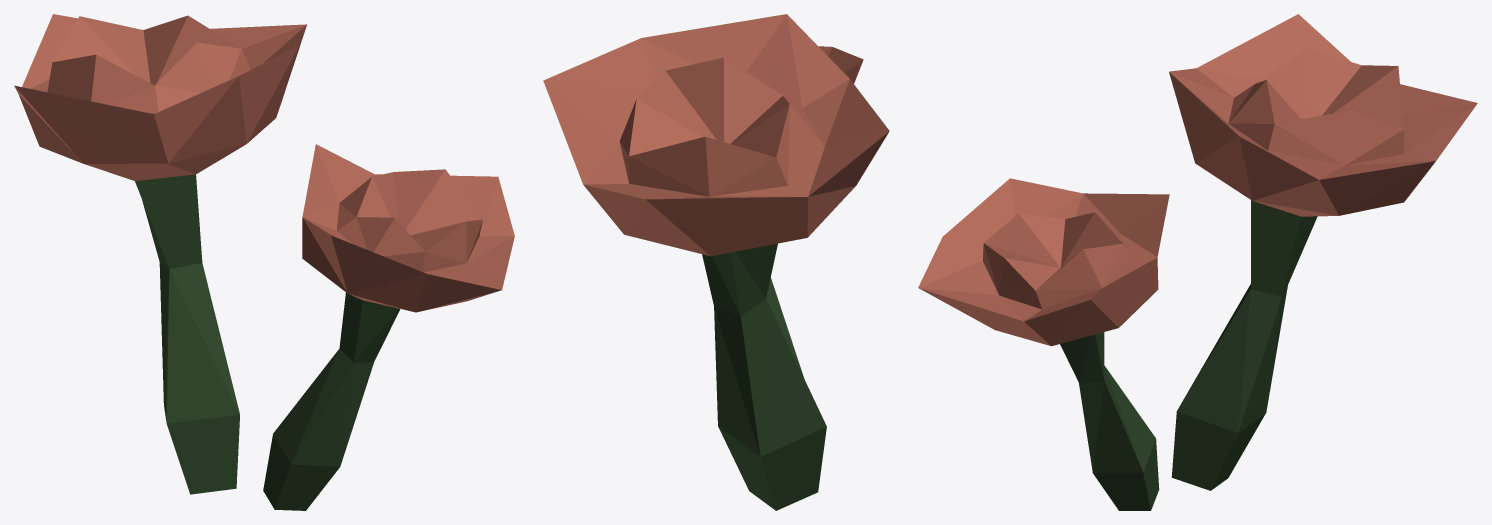
File: SM_Env_Flower_02.fbx
The picture shows the model from 3 angles, left to right: view 1: azimuth 30°, elevation 25°; view 2: azimuth 150°, elevation 25°; view 3: azimuth 270°, elevation 25°; orthographic projection. The views are drawn at different scales.
Visible parts, largest first — view 1: SM_Env_Flower_02; view 2: SM_Env_Flower_02; view 3: SM_Env_Flower_02.
Boxes of the visible parts, box(x1,y1,x2,y2) form: SM_Env_Flower_02: box(14, 14, 514, 510); SM_Env_Flower_02: box(543, 14, 889, 510); SM_Env_Flower_02: box(918, 14, 1477, 510).
Bounding box in the file's own units: 0.003 × 0.00323 × 0.0039.
Materials: 1 (1 with a texture image).
